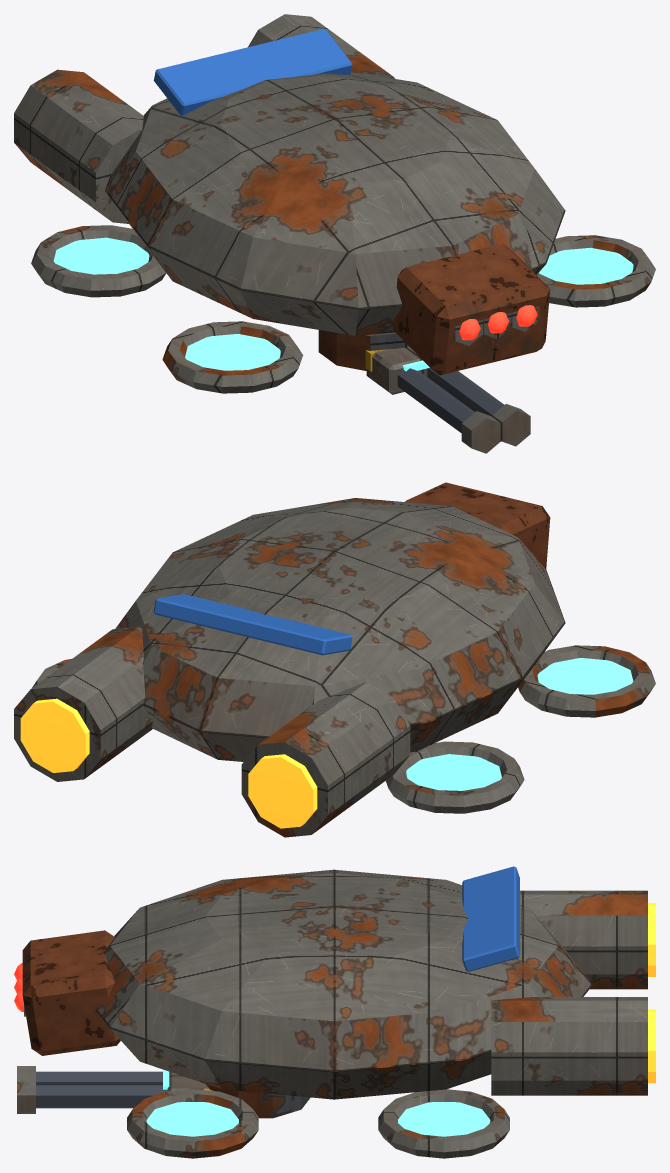
File: mastodonte.glb
The picture shows the model from 3 angles, top to bottom: view 1: azimuth 30°, elevation 25°; view 2: azimuth 150°, elevation 25°; view 3: azimuth 270°, elevation 25°; orthographic projection. The views are drawn at different scales.
Visible parts, largest first — view 1: mastodonte; view 2: mastodonte; view 3: mastodonte.
Part boxes in pixels (x1=…): mastodonte: x1=14, y1=14, x2=655, y2=453; mastodonte: x1=14, y1=482, x2=655, y2=837; mastodonte: x1=14, y1=866, x2=655, y2=1158.
Size of the model in its own units: 1.67 by 0.787 by 2.04.
11 materials, 3 textured.
